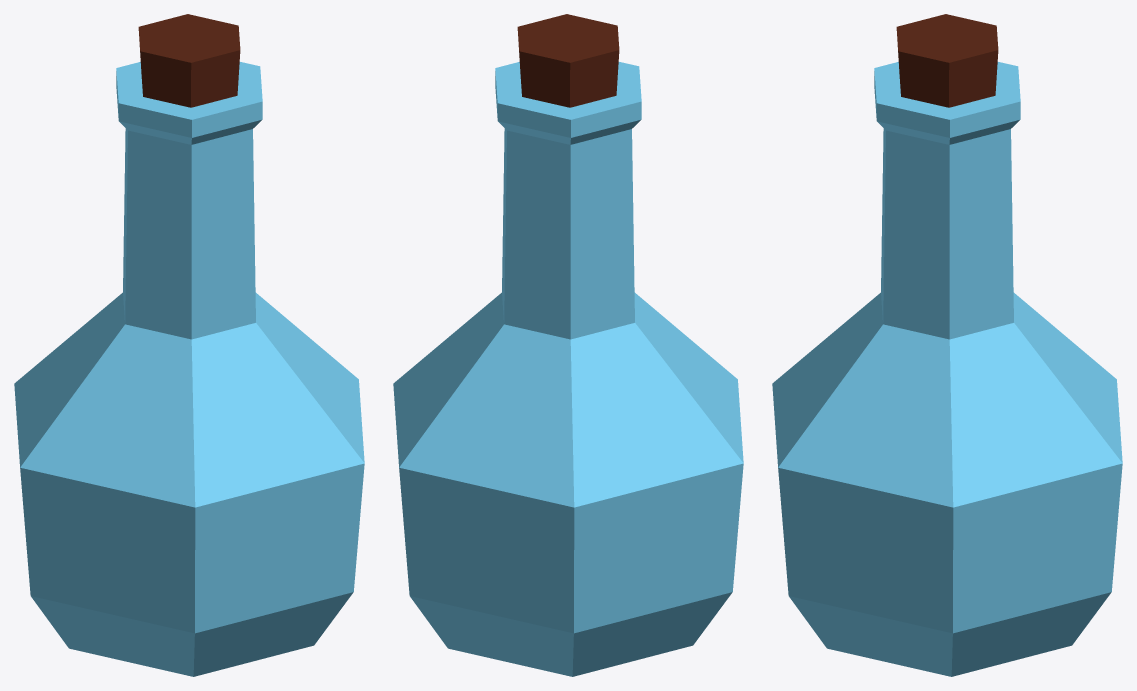
Rendered from m_EmptyPotion.FBX.
3 renders of one model, left to right at view 1: azimuth 30°, elevation 25°; view 2: azimuth 150°, elevation 25°; view 3: azimuth 270°, elevation 25°, orthographic.
Visible parts, largest first — view 1: Circle.001; view 2: Circle.001; view 3: Circle.001.
Part boxes in pixels (x1=…): Circle.001: x1=14, y1=14, x2=364, y2=676; Circle.001: x1=393, y1=14, x2=743, y2=676; Circle.001: x1=772, y1=14, x2=1122, y2=676.
Bounding box in the file's own units: 45.15 × 72.46 × 39.76.
1 material, 1 textured.
